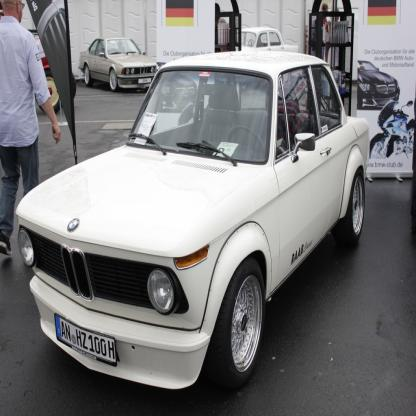Car: (15, 52, 370, 391), (80, 40, 158, 93), (346, 60, 401, 109), (235, 28, 300, 55)
